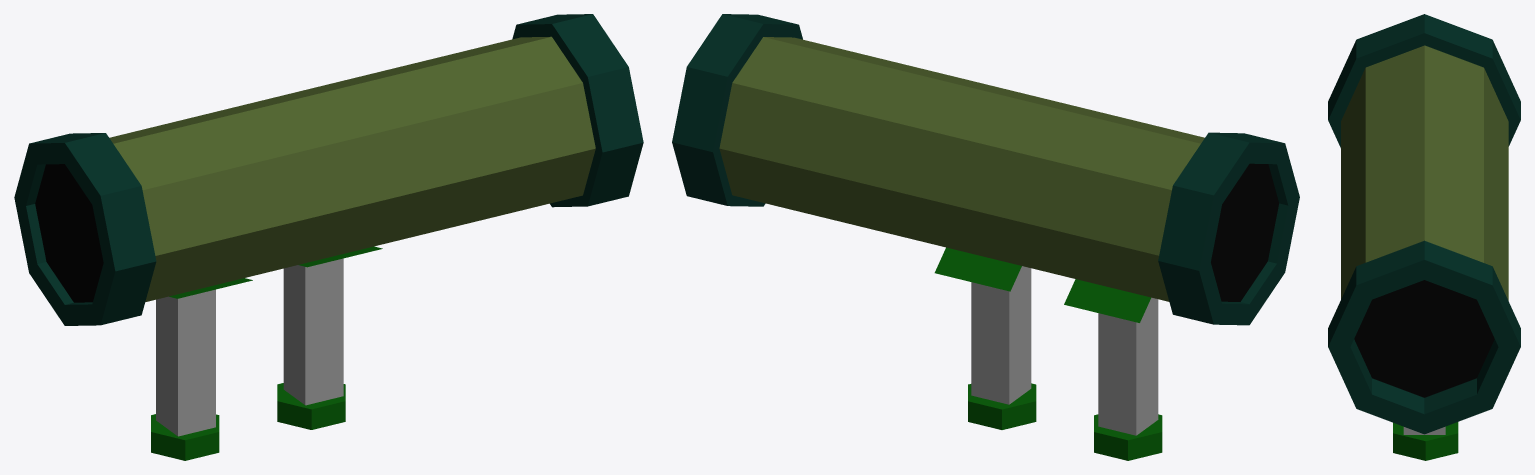
File: gun (1).fbx
3 views of the same model, side by side, from view 1: azimuth 30°, elevation 25°; view 2: azimuth 150°, elevation 25°; view 3: azimuth 270°, elevation 25° (orthographic). The views are drawn at different scales.
Parts seen in each view (by area): view 1: Cylinder, Cylinder.004, Cylinder.003, Cube.005, Cube.004, Cylinder.001, Cylinder.002; view 2: Cylinder, Cylinder.004, Cylinder.003, Cube.005, Cube.004, Cube.002, Cube, Cylinder.001, Cylinder.002; view 3: Cylinder, Cylinder.003, Cylinder.004, Cylinder.001.
Part boxes in pixels (x1,y1,x2,y2): Cylinder: (35, 36, 595, 302); Cylinder.004: (14, 133, 156, 325); Cylinder.003: (512, 14, 643, 207); Cube.005: (283, 258, 343, 405); Cube.004: (156, 289, 215, 436); Cylinder.001: (277, 383, 345, 429); Cylinder.002: (151, 414, 219, 460); Cylinder: (719, 37, 1278, 301); Cylinder.004: (1158, 132, 1299, 325); Cylinder.003: (672, 14, 802, 206); Cube.005: (971, 266, 1031, 404); Cube.004: (1098, 297, 1158, 435); Cube.002: (934, 247, 1021, 291); Cube: (1064, 279, 1150, 322); Cylinder.001: (968, 383, 1036, 429); Cylinder.002: (1094, 414, 1162, 460); Cylinder: (1341, 45, 1508, 397); Cylinder.003: (1328, 240, 1520, 434); Cylinder.004: (1328, 14, 1520, 147); Cylinder.001: (1393, 422, 1458, 460).
Bounding box in the file's own units: 694 × 416 × 230.
